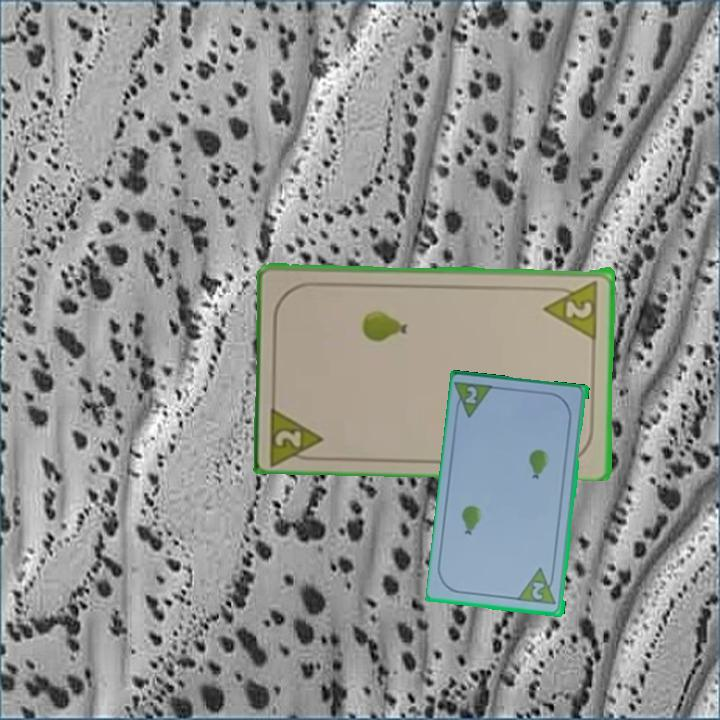2p: (266, 400, 327, 465), (541, 276, 601, 339), (452, 378, 498, 421), (529, 579, 547, 603)
